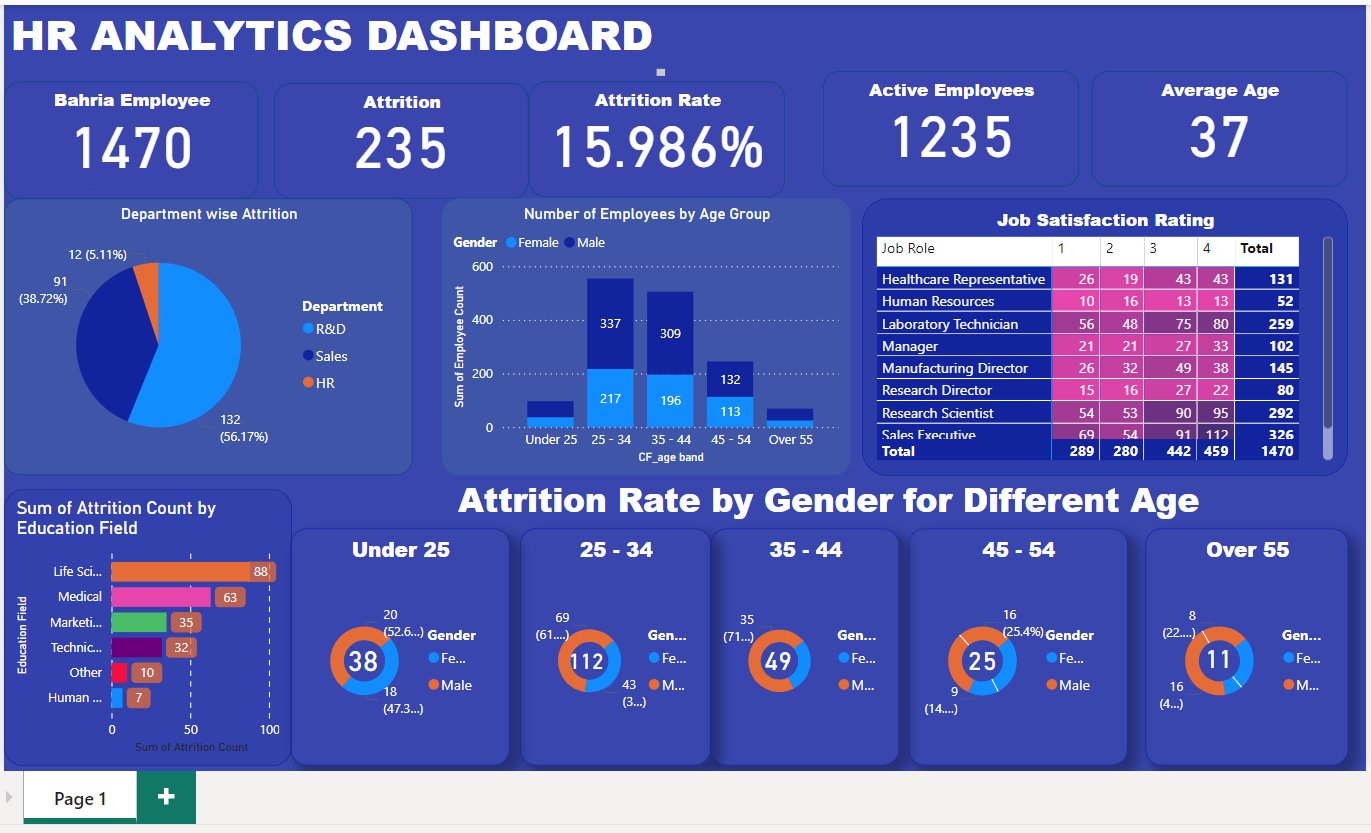

The page's visual inventory and layout, read from the dashboard file:
{"tool":"powerbi","page":{"name":"Page 1","canvas":[1280,720],"ordinal":0},"visuals":[{"type":"card","title":"Bahria Employee","fields":{"Values":["Sum(HR data.Employee Count)"]},"box":[0,71.9,239.5,109.9],"z":0},{"type":"card","title":"Attrition","fields":{"Values":["Sum(HR data.Attrition Count)"]},"box":[253.6,73.3,239.5,108.5],"z":1000},{"type":"card","title":"Attrition Rate","fields":{"Values":["HR data.Attrition Rate"]},"box":[493.2,71.9,240.9,108.5],"z":2000},{"type":"card","title":"Active Employees","fields":{"Values":["HR data.Active Employees"]},"box":[770.1,62,240.6,108.9],"z":3000},{"type":"card","title":"Average Age","fields":{"Values":["Avg(HR data.Age)"]},"box":[1022.8,62,240.6,108.9],"z":4000},{"type":"pieChart","title":"Department wise Attrition","fields":{"Category":["HR data.Department"],"Y":["Sum(HR data.Attrition Count)"]},"box":[0,181.6,384.3,260.2],"z":5000},{"type":"columnChart","title":"Number of Employees by Age Group","fields":{"Category":["HR data.CF_age band"],"Y":["Sum(HR data.Employee Count)"],"Series":["HR data.Gender"]},"box":[411.5,181.6,384.3,260.2],"z":6000},{"type":"pivotTable","title":"Job Satisfaction Rating ","fields":{"Rows":["HR data.Job Role"],"Columns":["HR data.Job Satisfaction"],"Values":["Sum(HR data.Employee Count)"]},"box":[806.1,181.2,456.9,260.5],"z":7000},{"type":"barChart","fields":{"Category":["HR data.Education Field"],"Y":["Sum(HR data.Attrition Count)"]},"box":[0,455.4,270.8,260.2],"z":8000},{"type":"donutChart","title":"Under 25","fields":{"Category":["HR data.Gender"],"Y":["Sum(HR data.Attrition Count)"],"Series":["HR data.CF_age band"]},"box":[270,492.7,205.8,222.8],"z":9000},{"type":"donutChart","title":"25 - 34","fields":{"Category":["HR data.Gender"],"Y":["Sum(HR data.Attrition Count)"],"Series":["HR data.CF_age band"]},"box":[485.2,492.7,179.4,222.8],"z":10000},{"type":"donutChart","title":"35 - 44","fields":{"Category":["HR data.Gender"],"Y":["Sum(HR data.Attrition Count)"],"Series":["HR data.CF_age band"]},"box":[664.5,492.7,177.5,222.8],"z":11000},{"type":"donutChart","title":"45 - 54","fields":{"Category":["HR data.Gender"],"Y":["Sum(HR data.Attrition Count)"],"Series":["HR data.CF_age band"]},"box":[849.6,492.7,205.8,222.8],"z":12000},{"type":"donutChart","title":"Over 55 ","fields":{"Category":["HR data.Gender"],"Y":["Sum(HR data.Attrition Count)"],"Series":["HR data.CF_age band"]},"box":[1072.3,492.7,190.7,222.8],"z":13000},{"type":"card","fields":{"Values":["Sum(HR data.Attrition Count)"]},"box":[316.5,589,42.4,51.5],"z":14000},{"type":"card","fields":{"Values":["Sum(HR data.Attrition Count)"]},"box":[511.8,590.5,69.7,51.5],"z":15000},{"type":"card","fields":{"Values":["Sum(HR data.Attrition Count)"]},"box":[883.6,588.5,70.5,54.1],"z":16000},{"type":"card","fields":{"Values":["Sum(HR data.Attrition Count)"]},"box":[701.1,589,53,53],"z":17000},{"type":"card","fields":{"Values":["Sum(HR data.Attrition Count)"]},"box":[1106.6,585.2,68.9,57.4],"z":18000},{"type":"textbox","title":"HR ANALYTICS DASHBOARD","box":[1.9,0,624.9,71.7],"z":19000},{"type":"textbox","title":"Attrition Rate by Gender for Different Age ","box":[271,442,1008.7,50.7],"z":20000}]}

Visuals, with their boxes on the page's 1280x720 design canvas (x1, y1, x2, y2). These are canvas units, not pixel positions in the 1371x833 screenshot, which may show the page scaled, cropped or inside an application window:
"Bahria Employee" card: Rect(0, 72, 240, 182)
"Attrition" card: Rect(254, 73, 493, 182)
"Attrition Rate" card: Rect(493, 72, 734, 180)
"Active Employees" card: Rect(770, 62, 1011, 171)
"Average Age" card: Rect(1023, 62, 1263, 171)
"Department wise Attrition" pieChart: Rect(0, 182, 384, 442)
"Number of Employees by Age Group" columnChart: Rect(412, 182, 796, 442)
"Job Satisfaction Rating " pivotTable: Rect(806, 181, 1263, 442)
barChart - HR data.Education Field x Sum(HR data.Attrition Count): Rect(0, 455, 271, 716)
"Under 25" donutChart: Rect(270, 493, 476, 716)
"25 - 34" donutChart: Rect(485, 493, 665, 716)
"35 - 44" donutChart: Rect(664, 493, 842, 716)
"45 - 54" donutChart: Rect(850, 493, 1055, 716)
"Over 55 " donutChart: Rect(1072, 493, 1263, 716)
card - Sum(HR data.Attrition Count): Rect(316, 589, 359, 640)
card - Sum(HR data.Attrition Count): Rect(512, 590, 582, 642)
card - Sum(HR data.Attrition Count): Rect(884, 588, 954, 643)
card - Sum(HR data.Attrition Count): Rect(701, 589, 754, 642)
card - Sum(HR data.Attrition Count): Rect(1107, 585, 1176, 643)
"HR ANALYTICS DASHBOARD" textbox: Rect(2, 0, 627, 72)
"Attrition Rate by Gender for Different Age " textbox: Rect(271, 442, 1280, 493)
